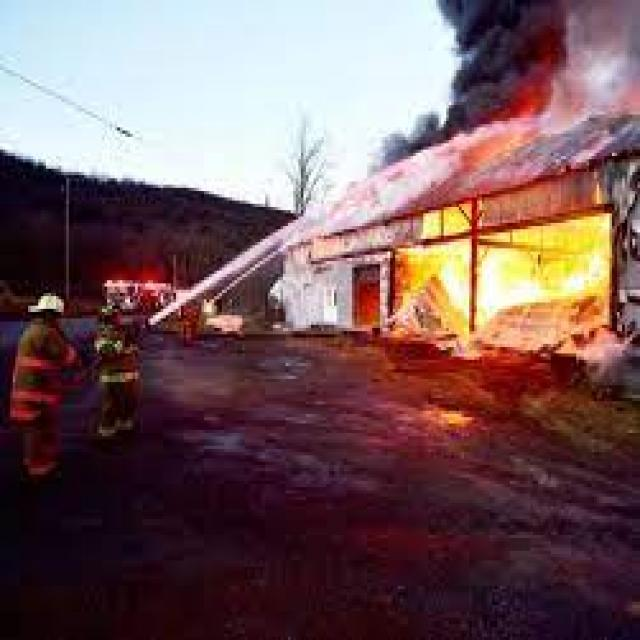fire: (400, 210, 607, 325)
smoke: (375, 3, 640, 166)
